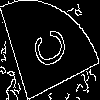C: (25, 25, 69, 75)
